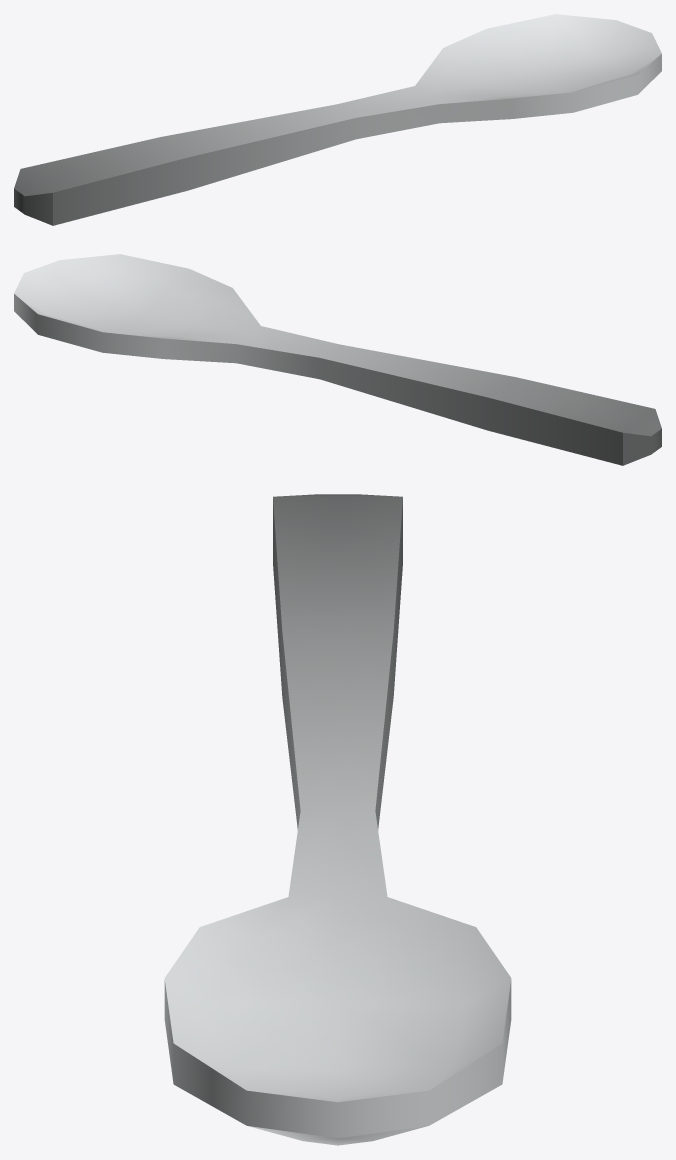
File: Spoon.fbx
The picture shows the model from 3 angles, top to bottom: view 1: azimuth 30°, elevation 25°; view 2: azimuth 150°, elevation 25°; view 3: azimuth 270°, elevation 25°; orthographic projection. The views are drawn at different scales.
Parts seen in each view (by area): view 1: Spoon; view 2: Spoon; view 3: Spoon.
Part boxes in pixels (left/top/right/bottom): Spoon: left=14, top=14, right=661, bottom=225; Spoon: left=14, top=254, right=661, bottom=465; Spoon: left=164, top=494, right=511, bottom=1145.
Bounding box in the file's own units: 19.44 × 0.9731 × 4.61.
